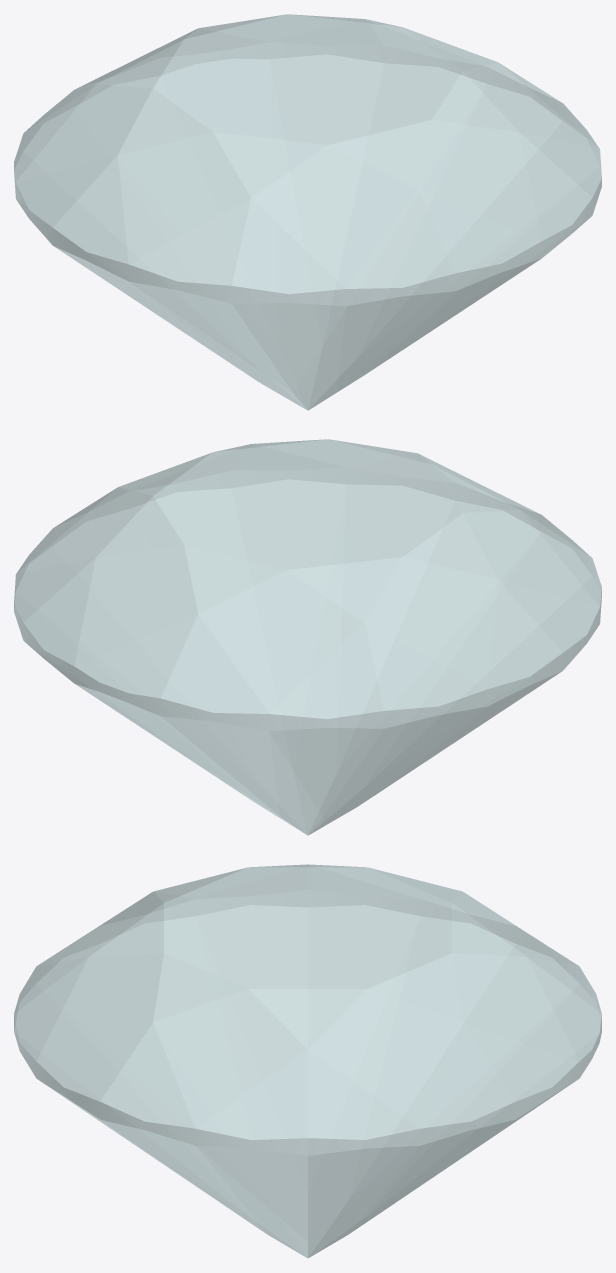
Rendered from Gem-Diamond.glb.
The picture shows the model from 3 angles, top to bottom: view 1: azimuth 30°, elevation 25°; view 2: azimuth 150°, elevation 25°; view 3: azimuth 270°, elevation 25°; orthographic projection.
Visible parts, largest first — view 1: Diamond; view 2: Diamond; view 3: Diamond.
Boxes of the visible parts, x1,y1,x2,y2 form: Diamond: (14,14,601,410); Diamond: (14,439,601,835); Diamond: (14,864,601,1258).
Size of the model in its own units: 6.67 by 4.13 by 6.67.
